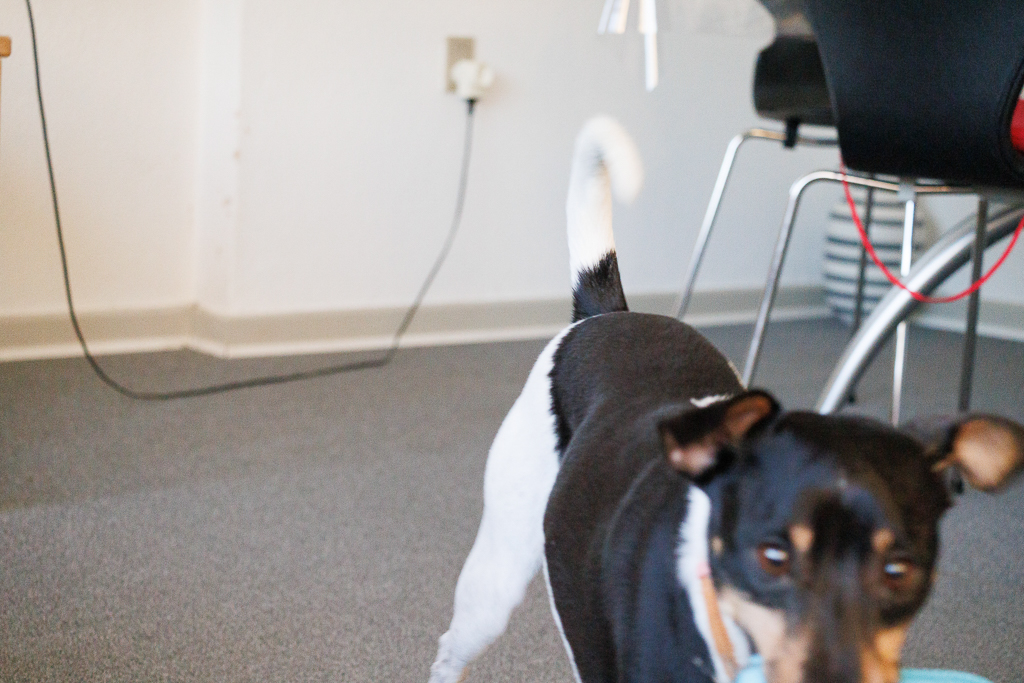Dog: (411, 107, 1024, 683)
